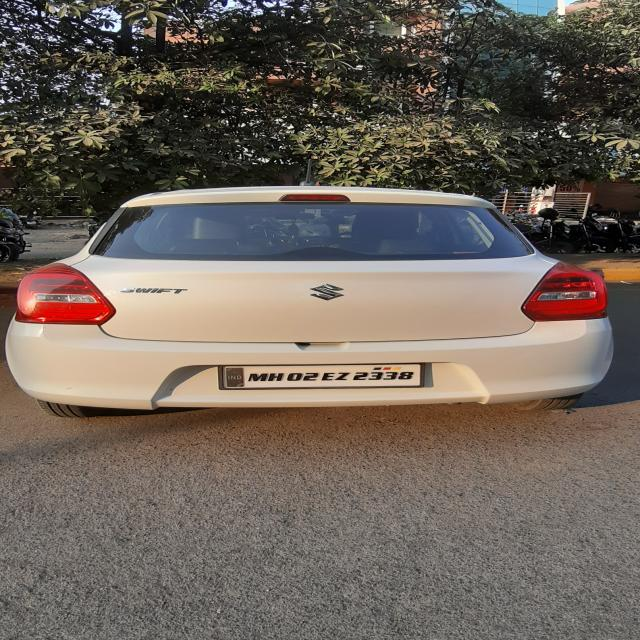Number-Plate: (218, 366, 422, 385)
